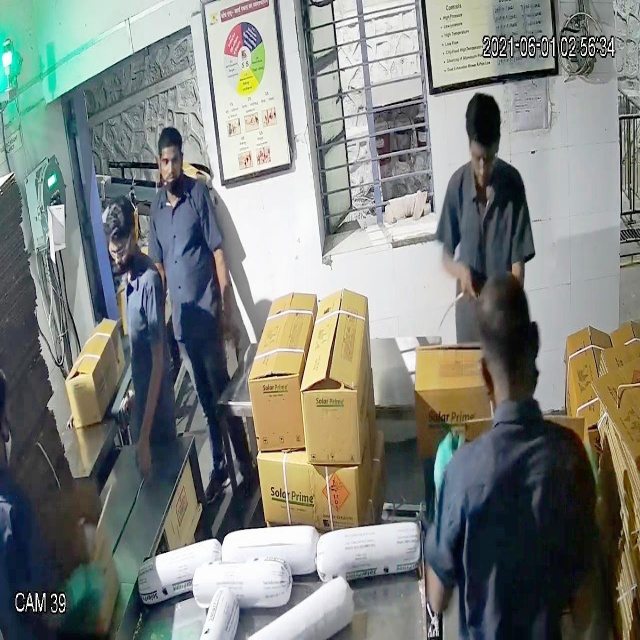Gafas: (104, 230, 138, 269)
